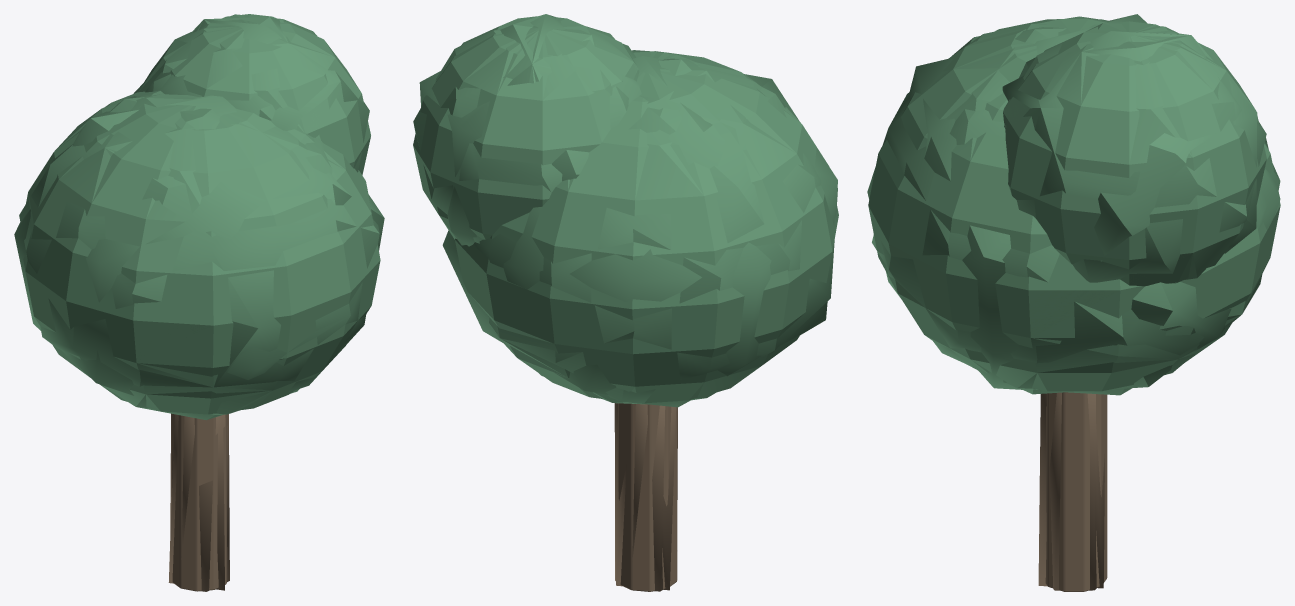
The model's file is SM_Kurpark_Tree.fbx.
The picture shows the model from 3 angles, left to right: view 1: azimuth 30°, elevation 25°; view 2: azimuth 150°, elevation 25°; view 3: azimuth 270°, elevation 25°; orthographic projection. The views are drawn at different scales.
Visible parts, largest first — view 1: LOD0_SM_Kurpark_Tree, LOD2_SM_Kurpark_Tree, LOD1_SM_Kurpark_Tree, LOD3_SM_Kurpark_Tree; view 2: LOD0_SM_Kurpark_Tree, LOD2_SM_Kurpark_Tree, LOD1_SM_Kurpark_Tree, LOD3_SM_Kurpark_Tree; view 3: LOD0_SM_Kurpark_Tree, LOD1_SM_Kurpark_Tree, LOD2_SM_Kurpark_Tree, LOD3_SM_Kurpark_Tree.
Boxes of the visible parts, x1=… form: LOD0_SM_Kurpark_Tree: x1=23, y1=14, x2=380, y2=591; LOD2_SM_Kurpark_Tree: x1=19, y1=17, x2=379, y2=591; LOD1_SM_Kurpark_Tree: x1=23, y1=14, x2=380, y2=591; LOD3_SM_Kurpark_Tree: x1=14, y1=19, x2=384, y2=590; LOD0_SM_Kurpark_Tree: x1=413, y1=16, x2=838, y2=591; LOD2_SM_Kurpark_Tree: x1=413, y1=14, x2=837, y2=591; LOD1_SM_Kurpark_Tree: x1=413, y1=14, x2=838, y2=591; LOD3_SM_Kurpark_Tree: x1=419, y1=14, x2=837, y2=590; LOD0_SM_Kurpark_Tree: x1=868, y1=19, x2=1280, y2=591; LOD1_SM_Kurpark_Tree: x1=868, y1=16, x2=1280, y2=591; LOD2_SM_Kurpark_Tree: x1=867, y1=16, x2=1280, y2=590; LOD3_SM_Kurpark_Tree: x1=872, y1=14, x2=1280, y2=588.
Bounding box in the file's own units: 3.27 × 4.76 × 3.01.
